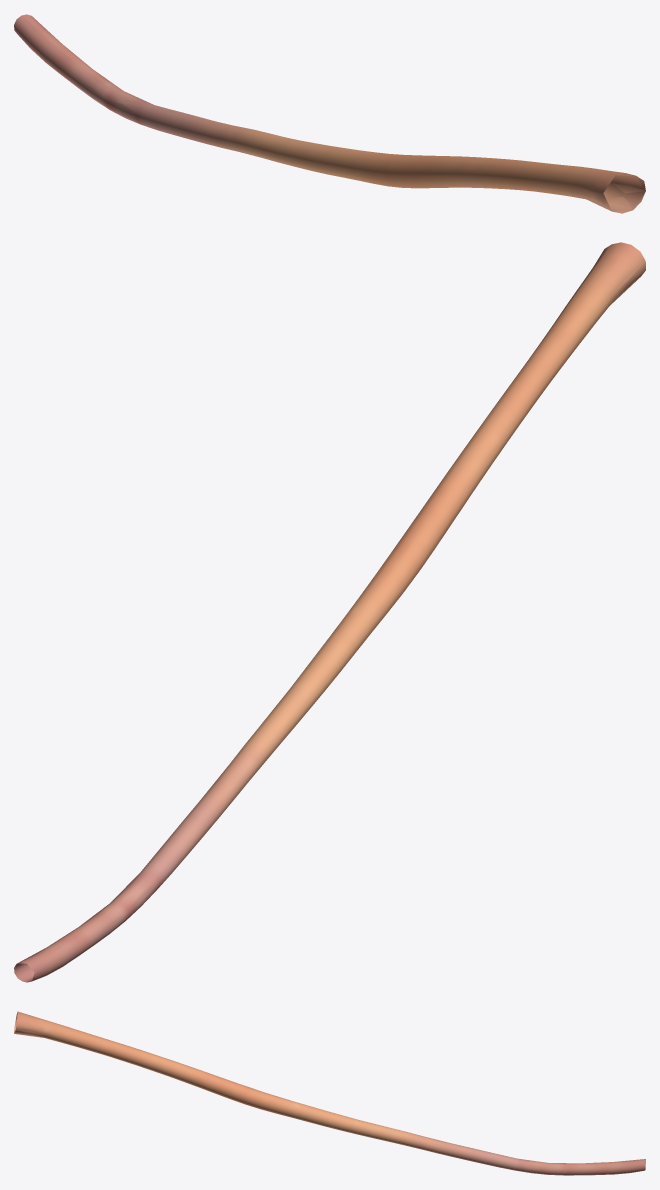
File: Urethra.fbx
3 views of the same model, one above another, from view 1: azimuth 30°, elevation 25°; view 2: azimuth 150°, elevation 25°; view 3: azimuth 270°, elevation 25° (orthographic). The views are drawn at different scales.
Visible parts, largest first — view 1: Urethra, Urethra low; view 2: Urethra, Urethra low; view 3: Urethra, Urethra low.
Part boxes in pixels (<box>): Urethra: <box>14,14,645,213</box>; Urethra low: <box>16,16,645,211</box>; Urethra: <box>14,242,645,982</box>; Urethra low: <box>14,248,644,981</box>; Urethra: <box>14,1011,645,1175</box>; Urethra low: <box>14,1012,645,1173</box>.
Bounding box in the file's own units: 0.5161 × 3.62 × 12.84.
